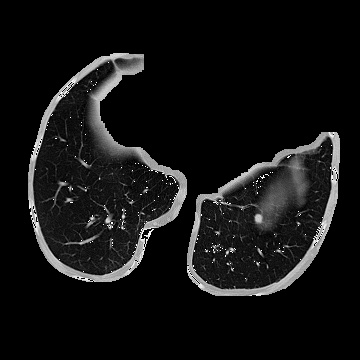PN: (255, 215, 263, 223)
